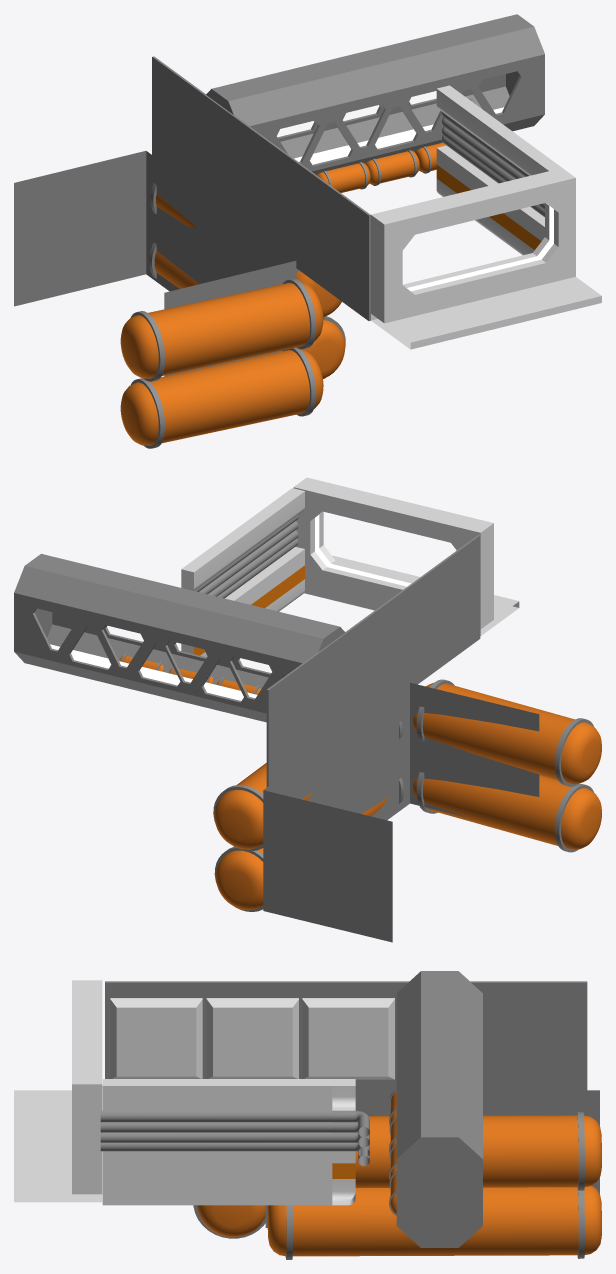
File: connector2-3.glb
3 views of the same model, one above another, from view 1: azimuth 30°, elevation 25°; view 2: azimuth 150°, elevation 25°; view 3: azimuth 270°, elevation 25° (orthographic). The views are drawn at different scales.
Parts seen in each view (by area): view 1: Cube.171, Cube.005, Cube.051, Cube.021, Cylinder.067, Cylinder.066, Plane.068, Cylinder.065, Cylinder.062, Cylinder.064, Cylinder.061, Cube.178 (+3 smaller); view 2: Cube.171, Cube.005, Cube.021, Cube.051, Cylinder.067, Cylinder.066, Plane.068, Cylinder.064, Cylinder.065, Cube.178, Plane.070, Plane.071 (+1 smaller); view 3: Plane.068, Cube.005, Cube.021, Cylinder.065, Cube.051, Cylinder.064, Cube.177, Cube.175, Cube.176, Plane.069, Plane.070, Plane.072 (+3 smaller).
Boxes of the visible parts, x1=… form: Cube.171: x1=14, y1=151, x2=296, y2=376; Cube.005: x1=206, y1=14, x2=544, y2=174; Cube.051: x1=371, y1=168, x2=601, y2=349; Cube.021: x1=152, y1=56, x2=370, y2=320; Cylinder.067: x1=120, y1=278, x2=323, y2=381; Cylinder.066: x1=120, y1=347, x2=323, y2=448; Plane.068: x1=436, y1=85, x2=561, y2=255; Cylinder.065: x1=149, y1=242, x2=345, y2=379; Cylinder.062: x1=365, y1=150, x2=419, y2=185; Cylinder.064: x1=150, y1=183, x2=341, y2=317; Cylinder.061: x1=317, y1=162, x2=370, y2=192; Cube.178: x1=294, y1=107, x2=503, y2=164; Cube.171: x1=263, y1=682, x2=539, y2=942; Cube.005: x1=14, y1=553, x2=345, y2=722; Cube.021: x1=266, y1=535, x2=480, y2=787; Cube.051: x1=293, y1=477, x2=519, y2=636; Cylinder.067: x1=413, y1=679, x2=601, y2=786; Cylinder.066: x1=413, y1=772, x2=601, y2=852; Plane.068: x1=181, y1=488, x2=304, y2=657; Cylinder.064: x1=213, y1=721, x2=402, y2=850; Cylinder.065: x1=214, y1=778, x2=403, y2=911; Cube.178: x1=50, y1=644, x2=257, y2=700; Plane.070: x1=199, y1=521, x2=298, y2=594; Plane.071: x1=208, y1=530, x2=298, y2=596; Plane.068: x1=102, y1=1079, x2=355, y2=1205; Cube.005: x1=396, y1=971, x2=482, y2=1247; Cube.021: x1=105, y1=981, x2=587, y2=1100; Cylinder.065: x1=267, y1=1185, x2=601, y2=1259; Cube.051: x1=14, y1=980, x2=102, y2=1202; Cylinder.064: x1=355, y1=1112, x2=601, y2=1190; Cube.177: x1=302, y1=998, x2=394, y2=1079; Cube.175: x1=110, y1=998, x2=202, y2=1078; Cube.176: x1=206, y1=998, x2=298, y2=1078; Plane.069: x1=100, y1=1110, x2=369, y2=1137; Plane.070: x1=100, y1=1122, x2=369, y2=1147; Plane.072: x1=100, y1=1142, x2=369, y2=1166.
Bounding box in the file's own units: 73.66 × 35.88 × 69.59.
